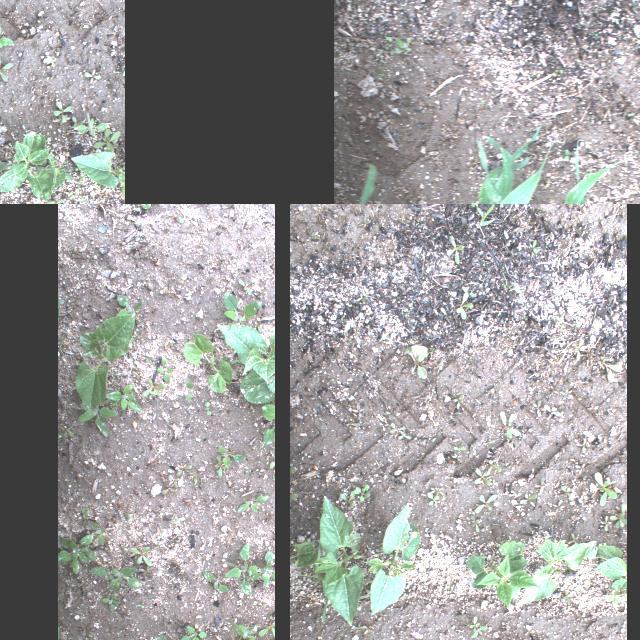crop: (477, 134, 640, 204), (290, 496, 364, 626), (435, 123, 552, 204), (364, 506, 422, 616), (74, 312, 136, 412), (517, 534, 595, 608), (464, 538, 540, 610), (0, 131, 73, 199), (217, 323, 275, 405), (182, 331, 230, 395), (334, 165, 409, 204), (70, 150, 124, 200), (594, 543, 626, 593)
weed: (222, 539, 260, 599), (59, 530, 96, 578), (75, 398, 118, 438), (223, 292, 263, 326), (100, 383, 142, 415), (90, 564, 142, 588), (210, 444, 246, 478), (245, 552, 275, 592), (596, 471, 622, 507), (112, 294, 144, 320), (403, 346, 427, 380), (202, 570, 230, 598), (92, 128, 120, 154), (597, 355, 623, 383), (72, 116, 108, 136), (86, 522, 110, 552), (140, 378, 167, 404), (236, 494, 270, 514), (128, 542, 154, 568), (262, 400, 275, 450), (161, 470, 183, 498), (0, 22, 13, 69), (445, 235, 465, 265), (98, 588, 120, 614), (500, 412, 520, 440), (52, 100, 74, 124), (227, 622, 255, 640), (474, 466, 496, 488), (474, 494, 498, 514), (254, 618, 275, 640), (156, 357, 172, 385), (611, 502, 627, 530), (475, 204, 496, 225), (386, 37, 412, 53), (178, 627, 207, 640), (238, 278, 254, 298), (500, 269, 516, 289), (354, 483, 370, 503), (0, 56, 12, 81), (175, 463, 193, 479), (456, 304, 474, 320), (574, 338, 586, 362), (338, 489, 354, 507), (469, 626, 489, 640), (483, 458, 502, 472), (374, 60, 386, 82), (460, 287, 476, 303), (84, 70, 102, 84), (466, 614, 484, 628), (606, 593, 626, 605), (559, 484, 573, 500), (352, 620, 368, 634), (184, 380, 194, 402), (544, 405, 562, 417), (469, 515, 481, 533), (301, 574, 319, 586), (396, 426, 412, 439), (519, 494, 539, 504), (60, 424, 74, 438), (532, 399, 546, 413), (426, 493, 440, 507), (351, 402, 363, 418), (553, 316, 565, 332), (534, 478, 544, 497), (452, 395, 464, 409), (267, 452, 275, 472), (389, 421, 399, 437), (562, 589, 572, 605), (602, 514, 610, 534), (450, 442, 466, 452), (566, 532, 582, 542), (47, 195, 64, 204), (426, 486, 444, 494), (436, 358, 446, 372), (438, 308, 452, 318), (442, 582, 456, 592), (482, 439, 496, 449), (430, 432, 442, 443), (204, 400, 212, 416), (448, 436, 464, 444), (384, 410, 396, 420), (421, 556, 425, 586), (522, 428, 534, 438), (362, 217, 371, 230), (359, 293, 369, 303), (426, 346, 436, 356), (532, 239, 538, 255), (581, 438, 587, 454), (363, 627, 375, 635), (564, 148, 570, 162), (378, 46, 388, 54), (388, 45, 396, 55), (310, 232, 320, 240), (579, 462, 585, 473), (452, 454, 461, 461), (348, 423, 358, 429), (352, 478, 362, 484), (378, 614, 388, 620), (579, 478, 585, 487), (572, 320, 578, 328), (290, 466, 296, 474), (290, 494, 296, 501), (378, 336, 384, 342), (423, 396, 427, 404), (324, 242, 330, 246), (386, 338, 390, 344)
